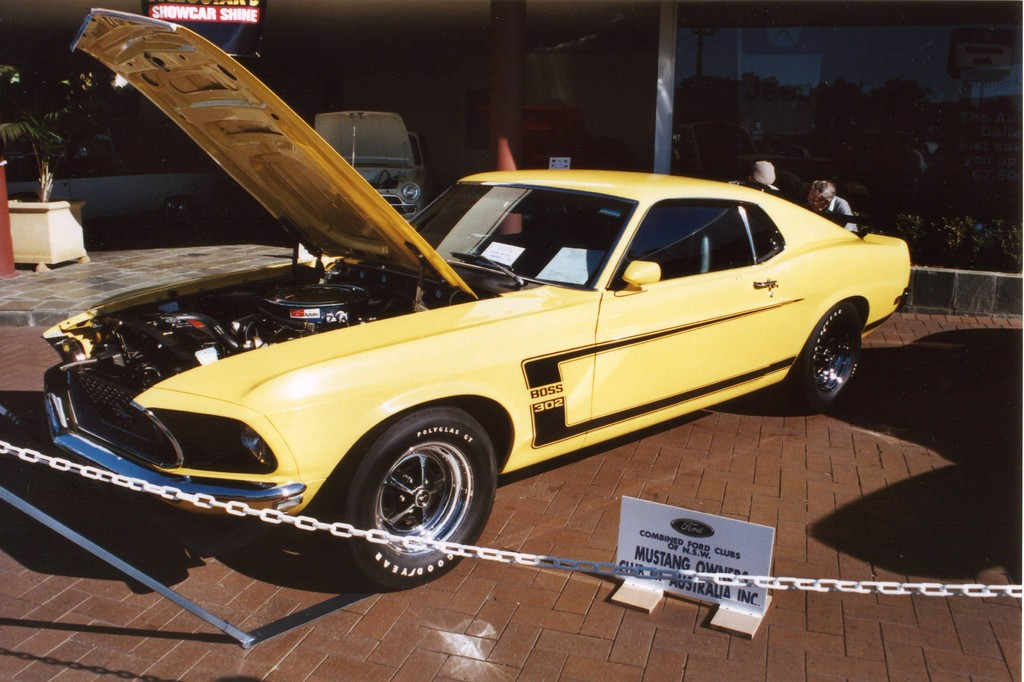Car: (39, 7, 910, 588), (313, 111, 430, 222)
